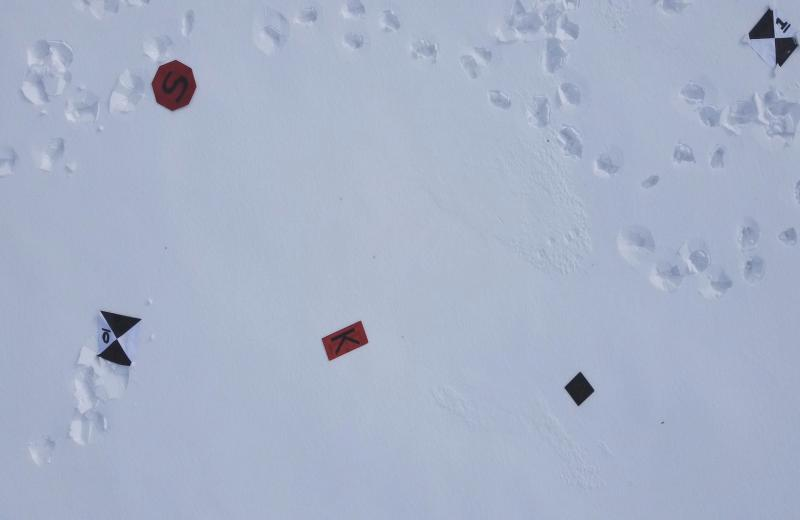Octagon: (151, 57, 196, 111)
Rectangle: (320, 318, 369, 361)
Square: (564, 372, 594, 407)
